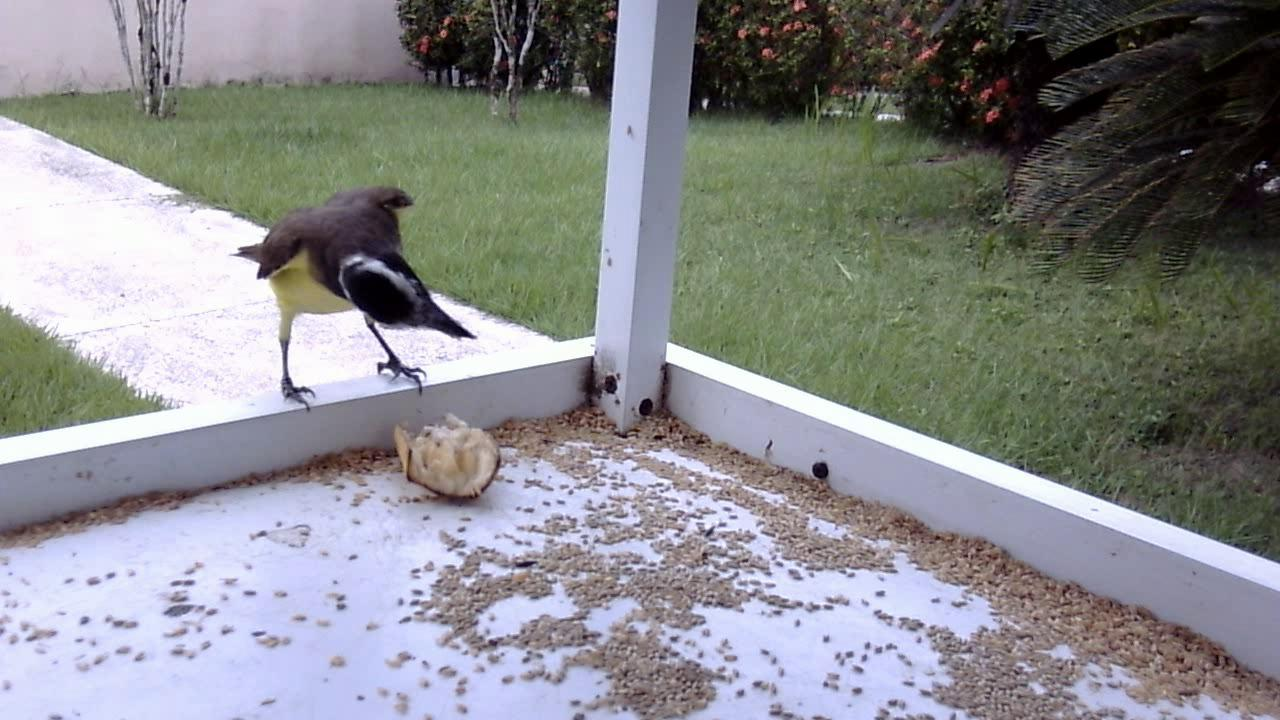bem_te_vi: (222, 172, 484, 425)
